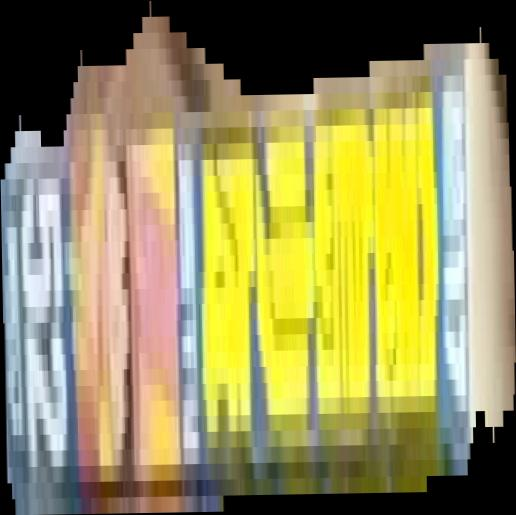flat: (1, 1, 516, 515)
